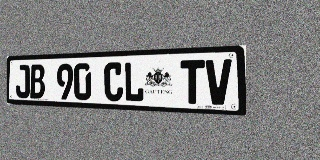0: (74, 63, 91, 100)
9: (57, 63, 73, 100)
B: (30, 64, 45, 99)
C: (104, 62, 123, 102)
J: (16, 65, 30, 98)
L: (124, 61, 144, 102)
T: (181, 60, 205, 104)
V: (206, 59, 232, 105)
